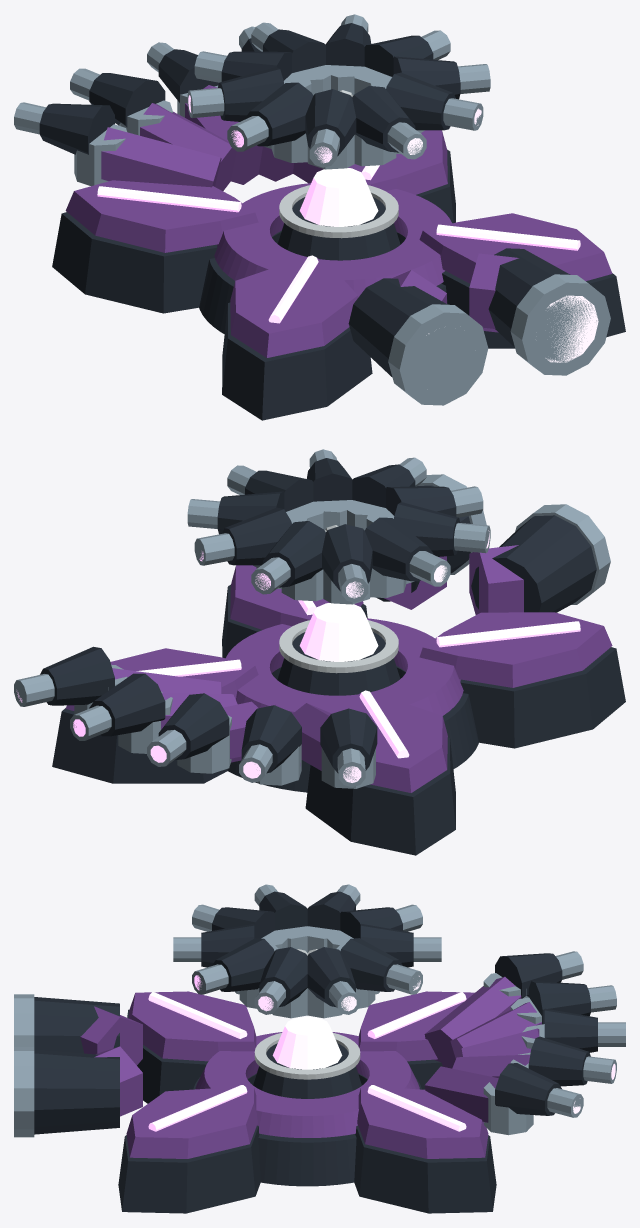
The model's file is c5_miniboss.glb.
3 renders of one model, top to bottom at view 1: azimuth 30°, elevation 25°; view 2: azimuth 150°, elevation 25°; view 3: azimuth 270°, elevation 25°, orthographic. The views are drawn at different scales.
Visible parts, largest first — view 1: miniboss / Armor, miniboss / Chassis, ring_rotor / Chassis, miniboss / Titanium, ring_rotor / Titanium, miniboss / Energy, miniboss / Identification, ring_rotor / Energy; view 2: miniboss / Chassis, miniboss / Armor, ring_rotor / Chassis, ring_rotor / Titanium, miniboss / Titanium, miniboss / Energy, miniboss / Identification, ring_rotor / Energy; view 3: miniboss / Chassis, miniboss / Armor, ring_rotor / Chassis, ring_rotor / Titanium, miniboss / Titanium, miniboss / Energy, miniboss / Identification, ring_rotor / Energy.
Part boxes in pixels (<box>): miniboss / Armor: <box>65,85,612,357</box>; miniboss / Chassis: <box>39,38,625,420</box>; ring_rotor / Chassis: <box>218,23,460,156</box>; miniboss / Titanium: <box>14,26,610,405</box>; ring_rotor / Titanium: <box>187,14,490,169</box>; miniboss / Energy: <box>97,165,598,362</box>; miniboss / Identification: <box>279,185,398,238</box>; ring_rotor / Energy: <box>188,95,481,163</box>; miniboss / Chassis: <box>40,485,625,855</box>; miniboss / Armor: <box>65,545,612,792</box>; ring_rotor / Chassis: <box>217,458,460,591</box>; ring_rotor / Titanium: <box>187,449,490,604</box>; miniboss / Titanium: <box>14,474,610,788</box>; miniboss / Energy: <box>16,600,580,782</box>; miniboss / Identification: <box>279,620,398,673</box>; ring_rotor / Energy: <box>199,530,489,598</box>; miniboss / Chassis: <box>34,953,597,1213</box>; miniboss / Armor: <box>80,976,541,1158</box>; ring_rotor / Chassis: <box>201,891,413,1007</box>; ring_rotor / Titanium: <box>173,884,441,1018</box>; miniboss / Titanium: <box>14,951,625,1137</box>; miniboss / Energy: <box>148,992,615,1131</box>; miniboss / Identification: <box>254,1033,360,1079</box>; ring_rotor / Energy: <box>194,975,420,1011</box>.
Size of the model in its own units: 1.21 by 0.735 by 1.96.
